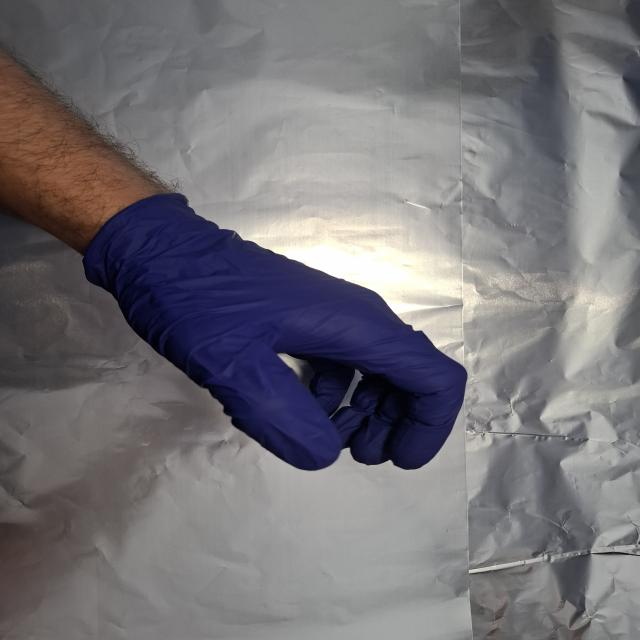glove_on: (86, 190, 472, 475)
